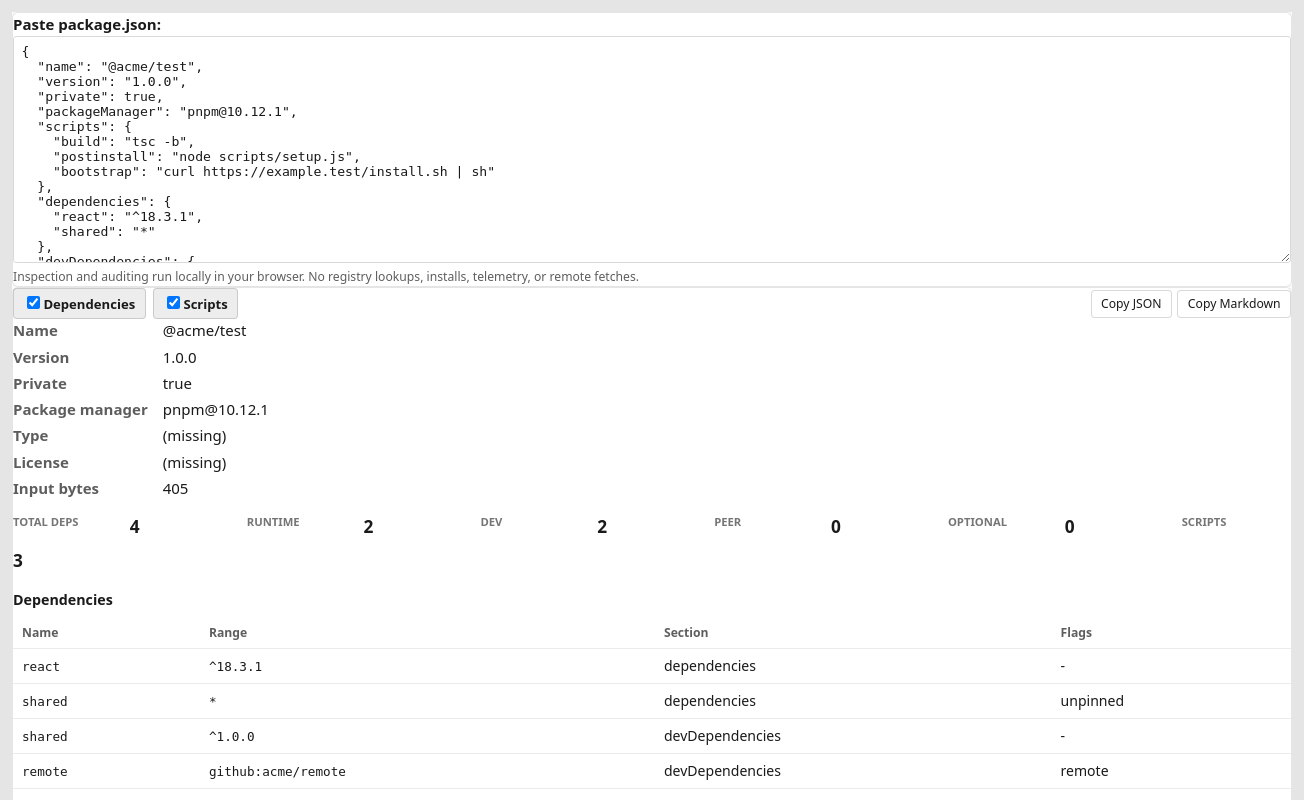
Test: PackageApp › can hide dependency and script sections
Click the checkbox with test id "package-toggle-dependencies" at (34, 302), box left=27, top=296, right=40, bottom=309
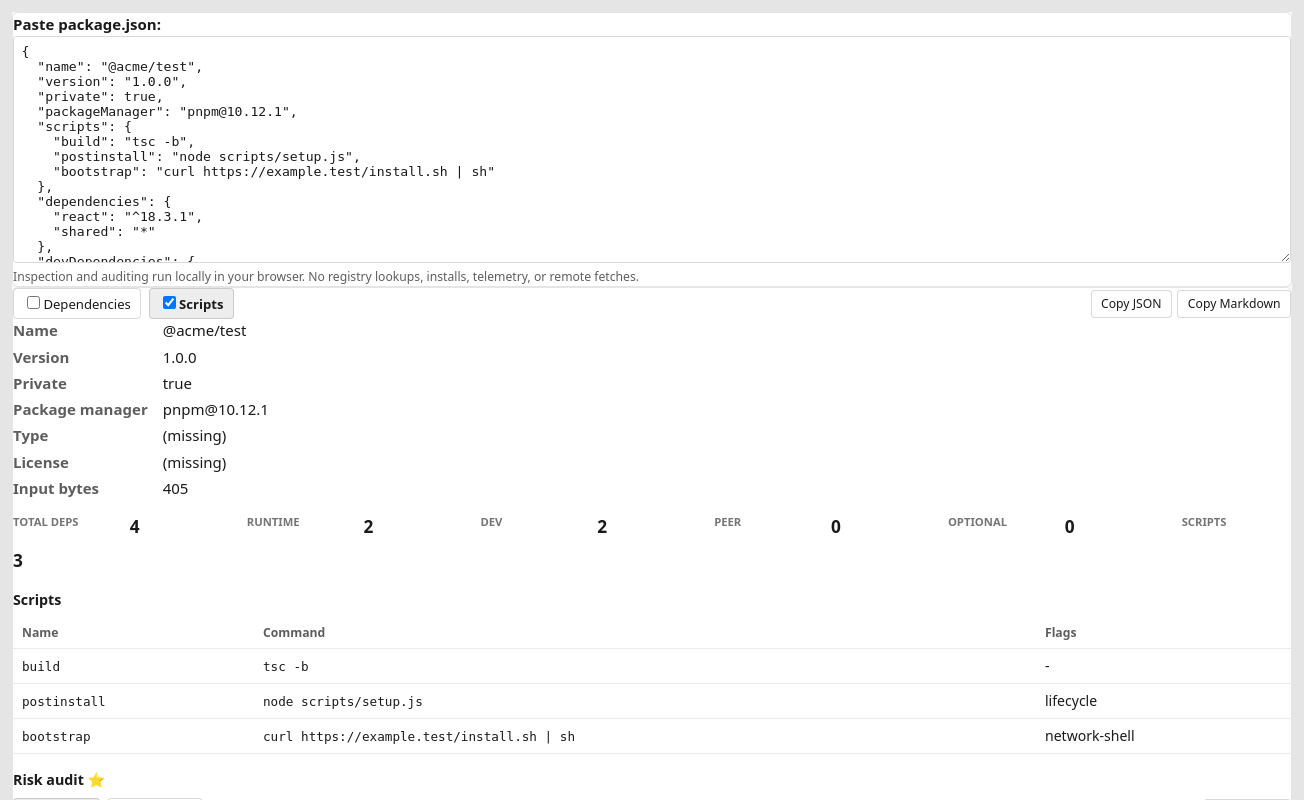
Click the checkbox with test id "package-toggle-scripts" at (170, 302), box left=163, top=296, right=176, bottom=309
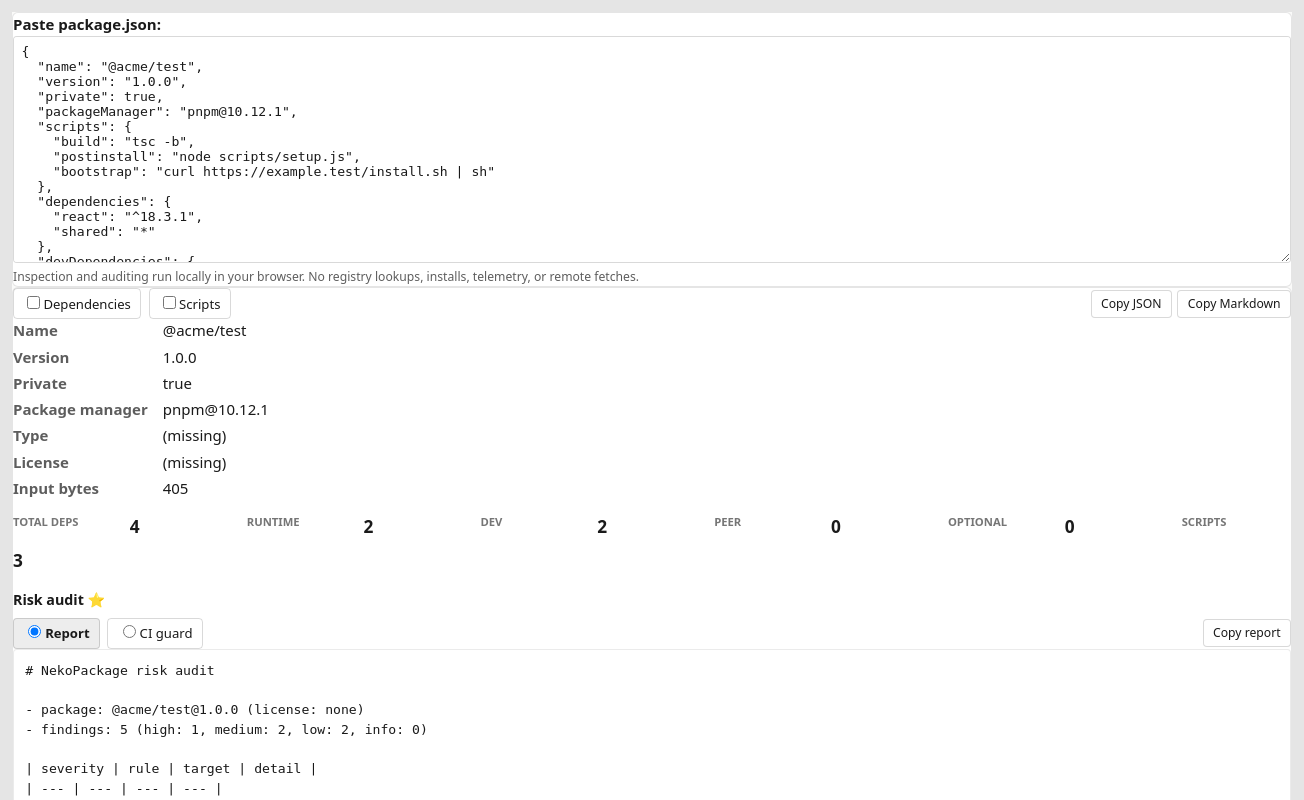
Expected: the element with test id "package-scripts" is gone
